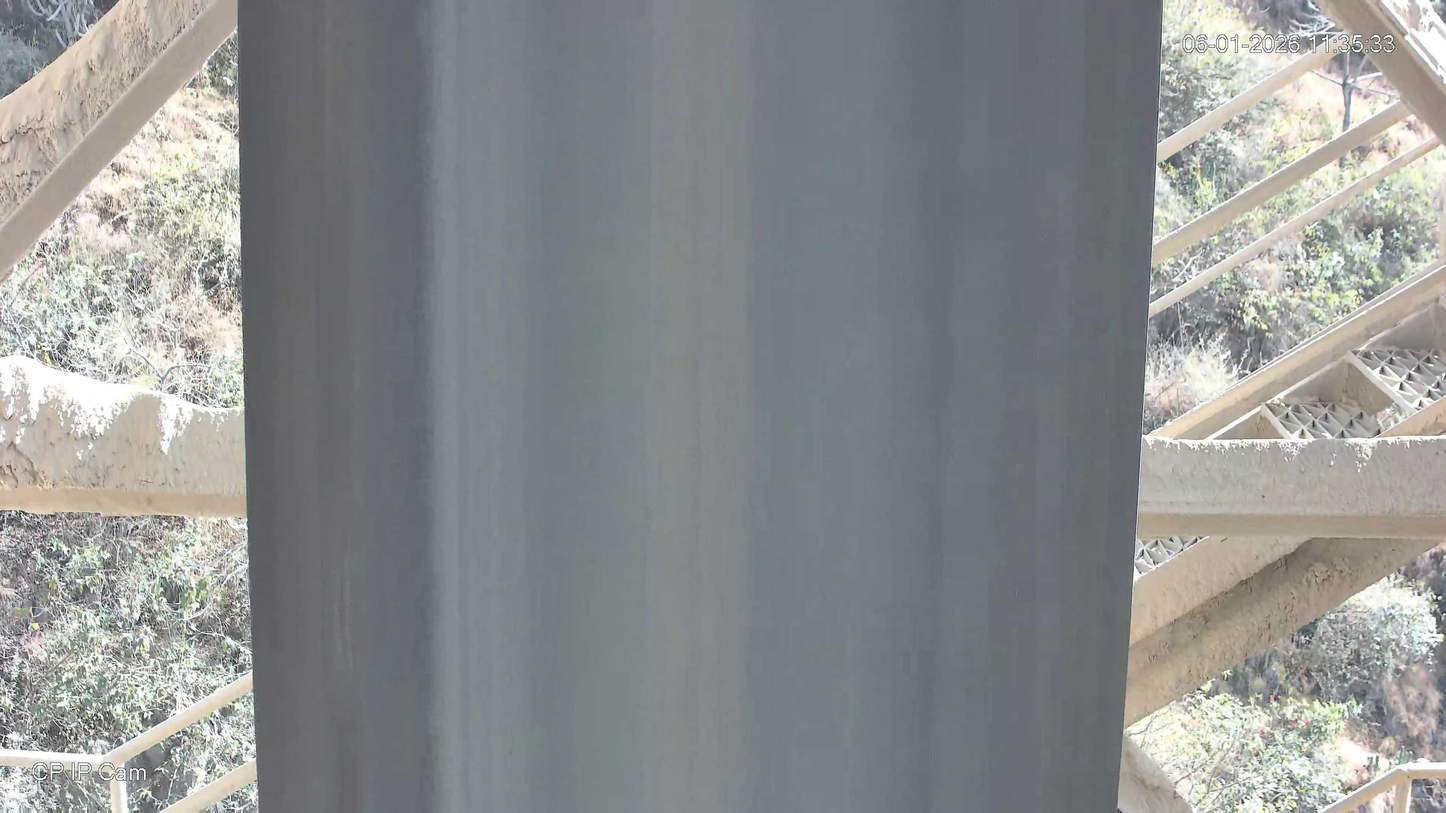belt_roi: (238, 0, 1164, 813)
